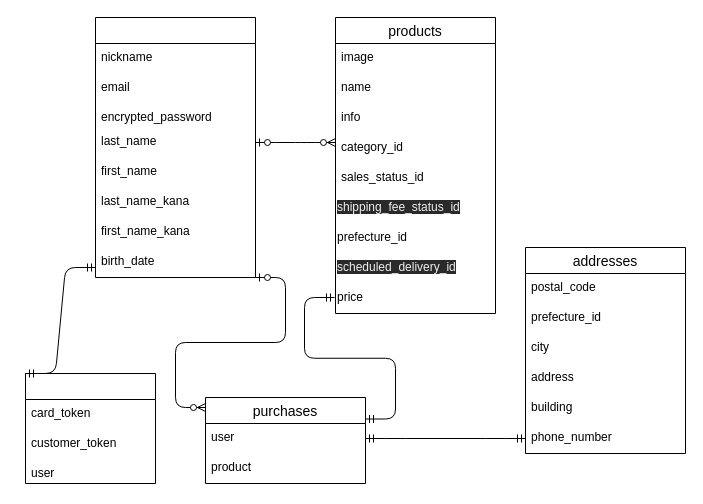
Some shapes in this 703 by 504 pixel diagram are drawn without their labels. Here are the shapes that lost their labels. From the top down, the box of each, then its label:
(94, 16, 256, 278): users
(24, 372, 156, 484): cards
